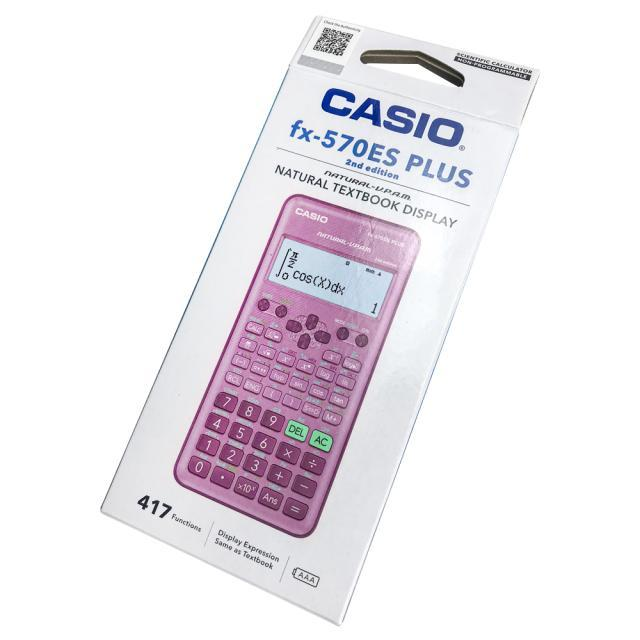Calculator: (162, 192, 426, 546)
